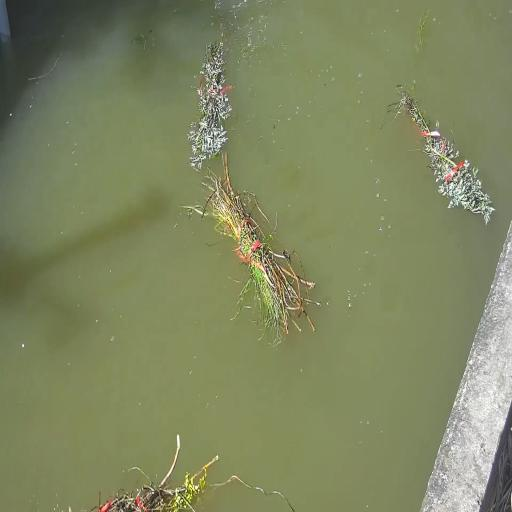twig: (182, 152, 318, 334), (388, 91, 494, 224), (96, 435, 218, 512), (188, 40, 231, 171)
